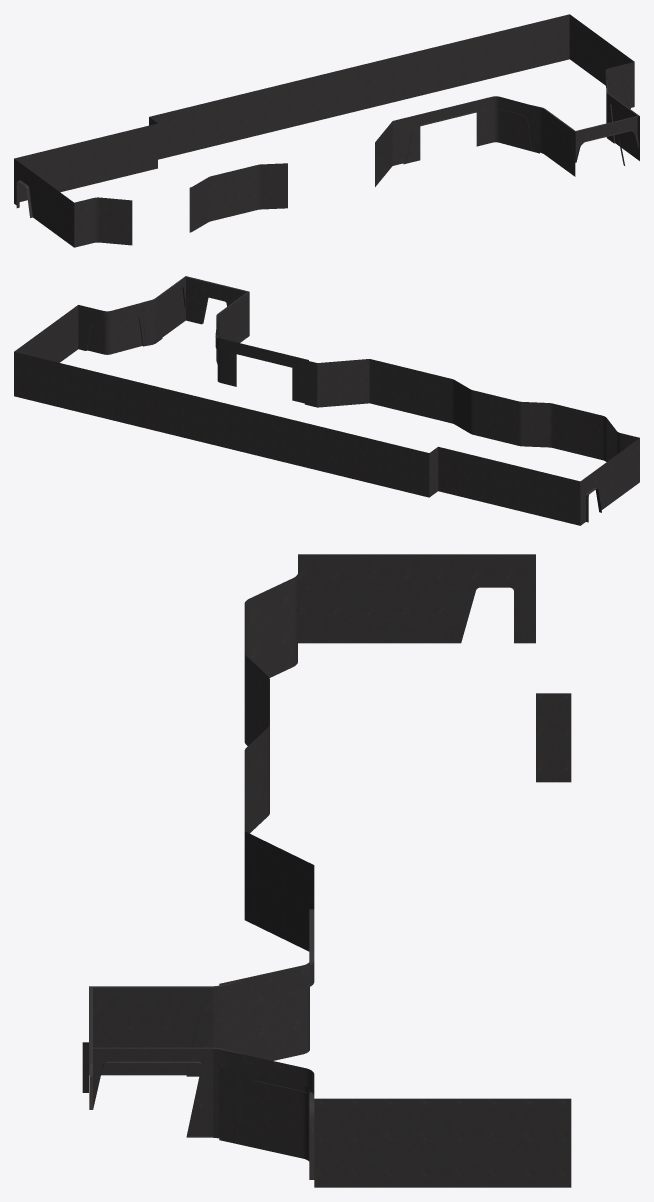
Rendered from EC_Wall_Cutted.fbx.
3 views of the same model, one above another, from view 1: azimuth 30°, elevation 25°; view 2: azimuth 150°, elevation 25°; view 3: azimuth 270°, elevation 25° (orthographic). The views are drawn at different scales.
Visible parts, largest first — view 1: EC_Wall.013, EC_Wall.012, EC_Wall.005, EC_Wall.008, EC_Wall.010, EC_Wall.011, EC_Wall.001, EC_Wall.004, EC_Wall, EC_Wall.002, EC_Wall.003, EC_Wall.006; view 2: EC_Wall.013, EC_Wall.012, EC_Wall.008, EC_Wall.007, EC_Wall, EC_Wall.005, EC_Wall.011, EC_Wall.009, EC_Wall.006, EC_Wall.001, EC_Wall.003, EC_Wall.002 (+2 smaller); view 3: EC_Wall.001, EC_Wall.011, EC_Wall, EC_Wall.004, EC_Wall.005, EC_Wall.006, EC_Wall.010, EC_Wall.008, EC_Wall.002, EC_Wall.012.
Part boxes in pixels (bbox=[...]): EC_Wall.013: bbox=[149, 14, 569, 159]; EC_Wall.012: bbox=[14, 117, 157, 201]; EC_Wall.005: bbox=[392, 96, 544, 165]; EC_Wall.008: bbox=[189, 163, 287, 232]; EC_Wall.010: bbox=[74, 197, 132, 247]; EC_Wall.011: bbox=[14, 159, 74, 247]; EC_Wall.001: bbox=[569, 14, 634, 85]; EC_Wall.004: bbox=[544, 109, 575, 176]; EC_Wall: bbox=[605, 62, 634, 137]; EC_Wall.002: bbox=[607, 93, 639, 160]; EC_Wall.003: bbox=[575, 116, 639, 165]; EC_Wall.006: bbox=[375, 121, 392, 186]; EC_Wall.013: bbox=[14, 352, 429, 497]; EC_Wall.012: bbox=[429, 446, 580, 525]; EC_Wall.008: bbox=[454, 380, 552, 447]; EC_Wall.007: bbox=[369, 359, 454, 424]; EC_Wall: bbox=[78, 298, 155, 354]; EC_Wall.005: bbox=[215, 314, 317, 407]; EC_Wall.011: bbox=[580, 438, 639, 525]; EC_Wall.009: bbox=[553, 403, 606, 461]; EC_Wall.006: bbox=[317, 359, 369, 407]; EC_Wall.001: bbox=[14, 305, 78, 362]; EC_Wall.003: bbox=[185, 276, 248, 324]; EC_Wall.002: bbox=[155, 276, 185, 342]; EC_Wall.001: bbox=[314, 1098, 571, 1187]; EC_Wall.011: bbox=[298, 554, 535, 643]; EC_Wall: bbox=[213, 1047, 314, 1179]; EC_Wall.004: bbox=[89, 986, 212, 1076]; EC_Wall.005: bbox=[213, 909, 314, 1060]; EC_Wall.006: bbox=[244, 831, 314, 951]; EC_Wall.010: bbox=[249, 574, 297, 677]; EC_Wall.008: bbox=[244, 654, 269, 833]; EC_Wall.002: bbox=[89, 1047, 212, 1137]; EC_Wall.012: bbox=[536, 693, 571, 782].
Bounding box in the file's own units: 5327 × 405 × 2012.
